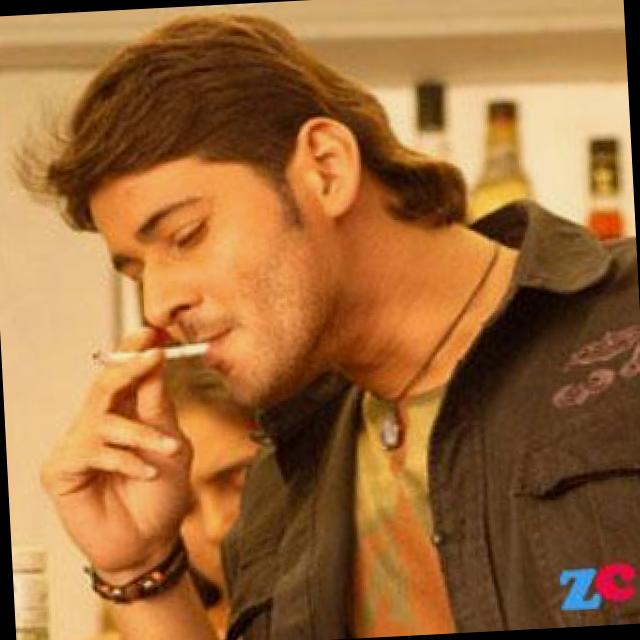smoke: (80, 328, 222, 372)
